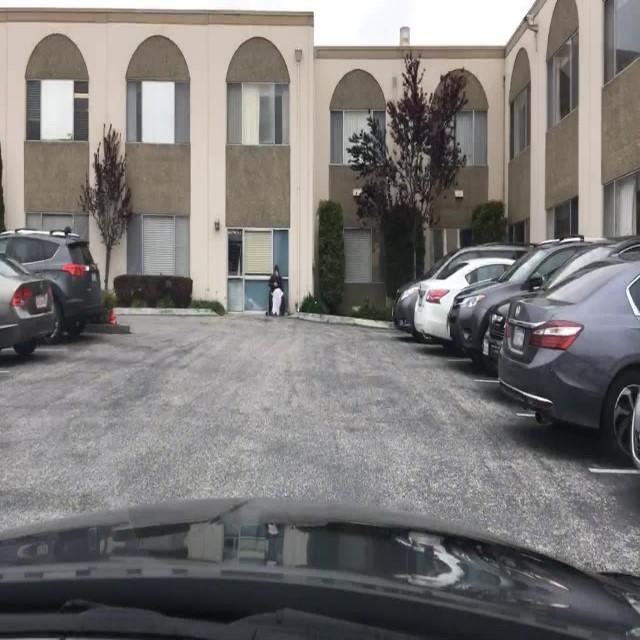normal: (484, 241, 640, 475), (394, 243, 526, 348), (2, 229, 114, 344), (0, 246, 58, 356)
